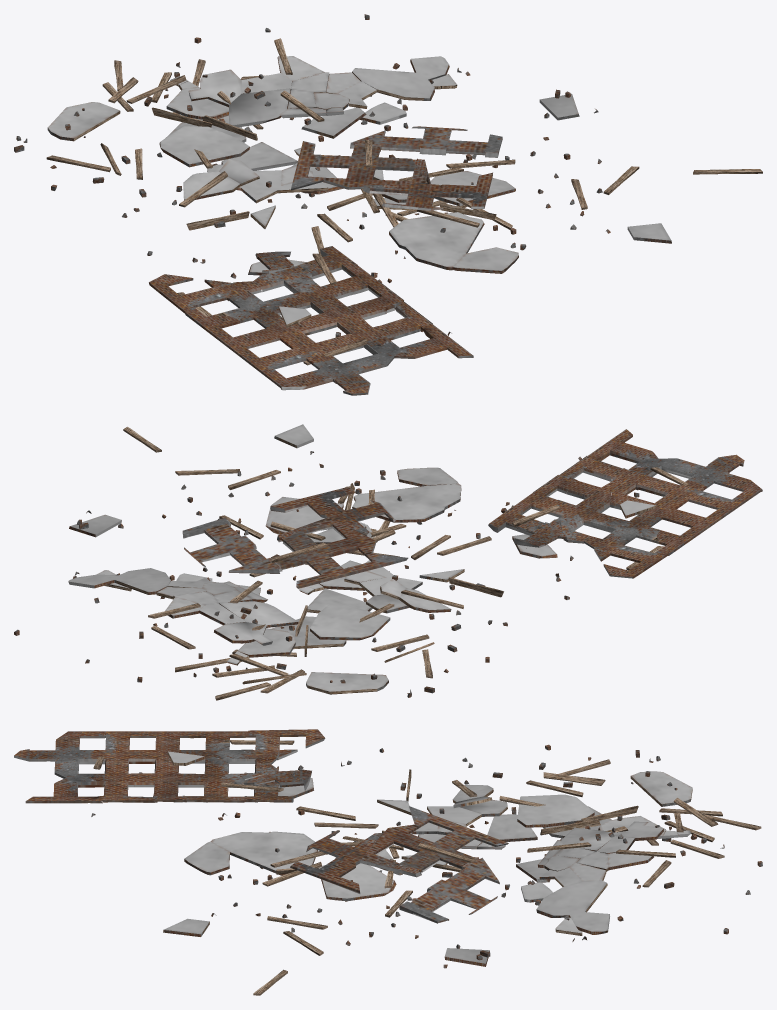
Rendered from Debris_04.fbx.
The picture shows the model from 3 angles, top to bottom: view 1: azimuth 30°, elevation 25°; view 2: azimuth 150°, elevation 25°; view 3: azimuth 270°, elevation 25°; orthographic projection. The views are drawn at different scales.
Visible parts, largest first — view 1: Debris4_LOD0_LOD0_LOD0_LOD0; view 2: Debris4_LOD0_LOD0_LOD0_LOD0; view 3: Debris4_LOD0_LOD0_LOD0_LOD0.
Part boxes in pixels (left/top/right/bottom): Debris4_LOD0_LOD0_LOD0_LOD0: left=14, top=14, right=762, bottom=395; Debris4_LOD0_LOD0_LOD0_LOD0: left=14, top=424, right=762, bottom=700; Debris4_LOD0_LOD0_LOD0_LOD0: left=14, top=729, right=762, bottom=995.
Size of the model in its own units: 824 by 41.43 by 998.
